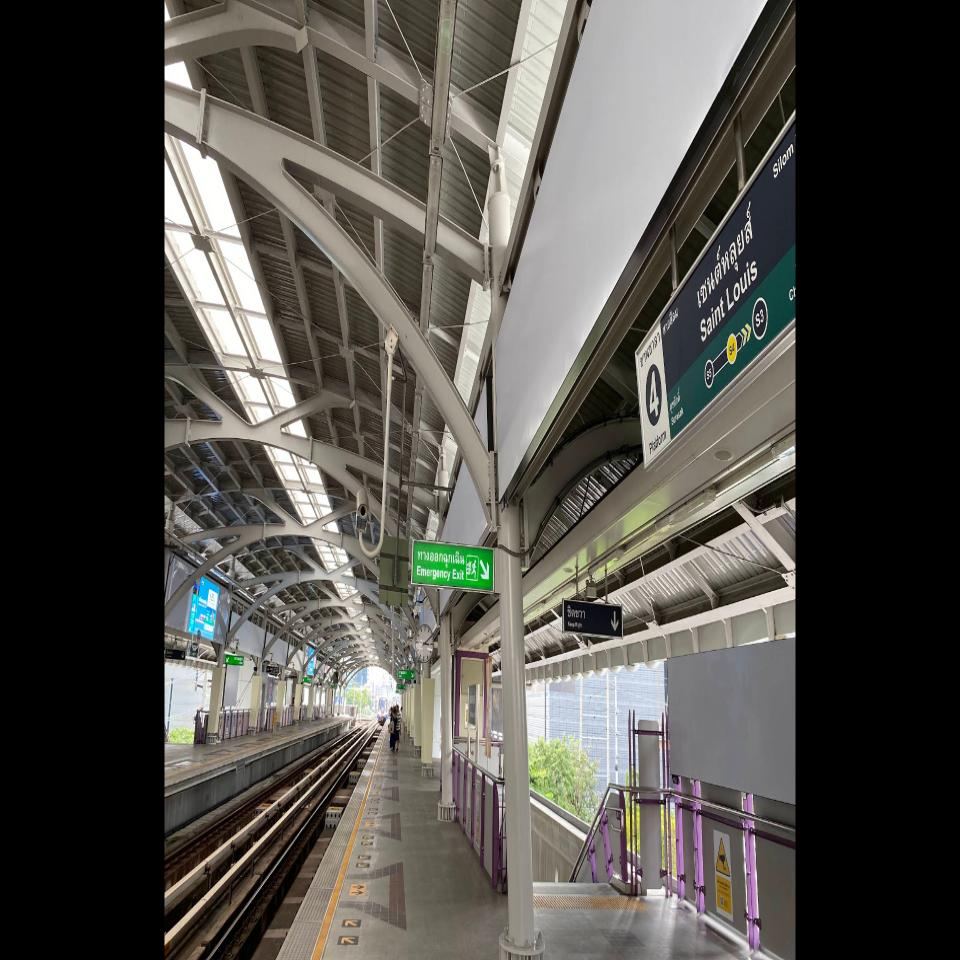Saint Louis: (697, 151, 768, 422)
